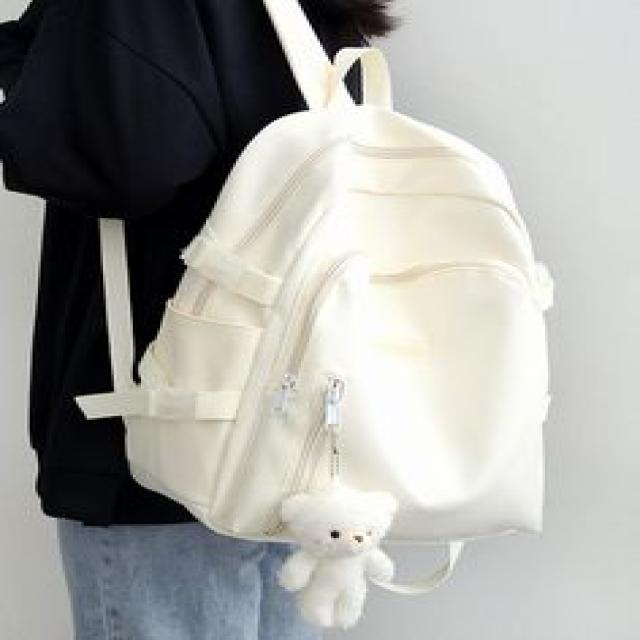handbag: (144, 86, 552, 552)
